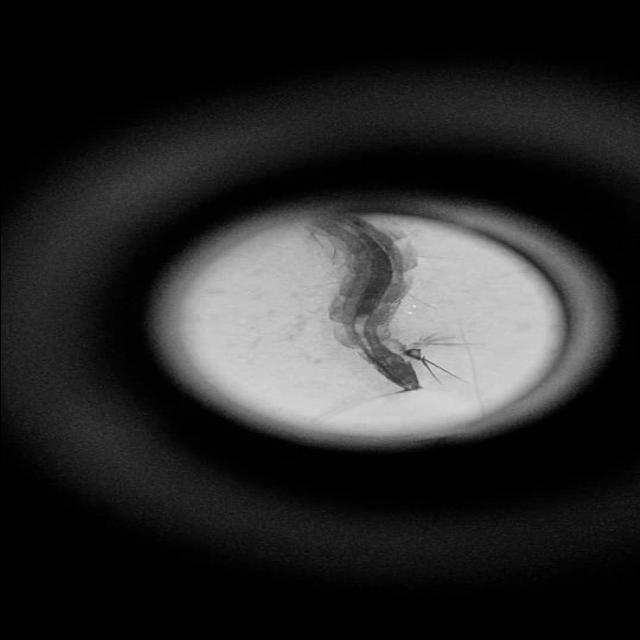larvas: (306, 210, 426, 395)
